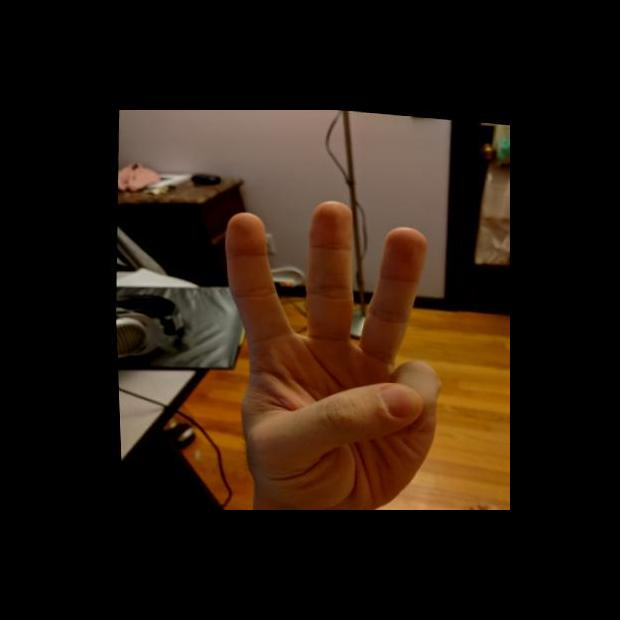V: (201, 187, 457, 509)
